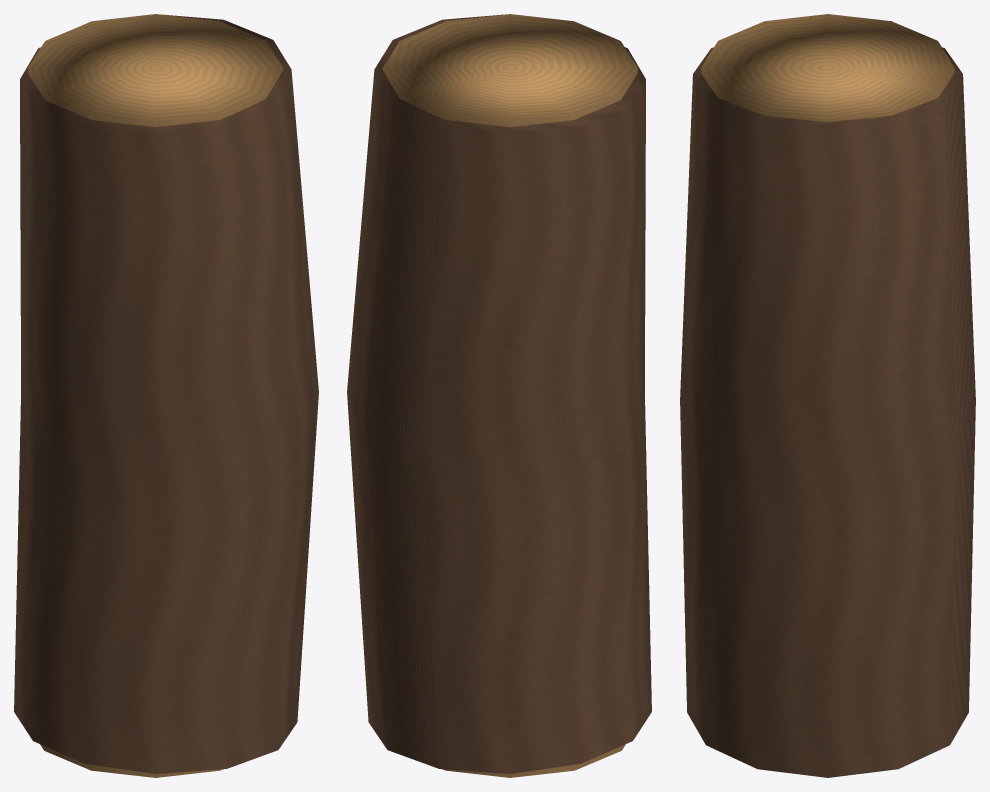
The model's file is log.glb.
The picture shows the model from 3 angles, left to right: view 1: azimuth 30°, elevation 25°; view 2: azimuth 150°, elevation 25°; view 3: azimuth 270°, elevation 25°; orthographic projection.
Parts seen in each view (by area): view 1: log; view 2: log; view 3: log.
Part boxes in pixels (x1=…): log: x1=14, y1=14, x2=318, y2=777; log: x1=347, y1=14, x2=651, y2=777; log: x1=680, y1=14, x2=975, y2=777.
Bounding box in the file's own units: 0.2599 × 0.612 × 0.252.
Materials: 2 (2 with a texture image).
